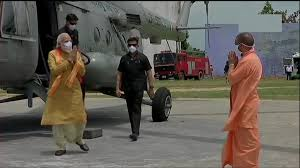Caution: (45, 13, 91, 155)
Good: (51, 33, 263, 168), (121, 37, 261, 168), (53, 34, 146, 154)
